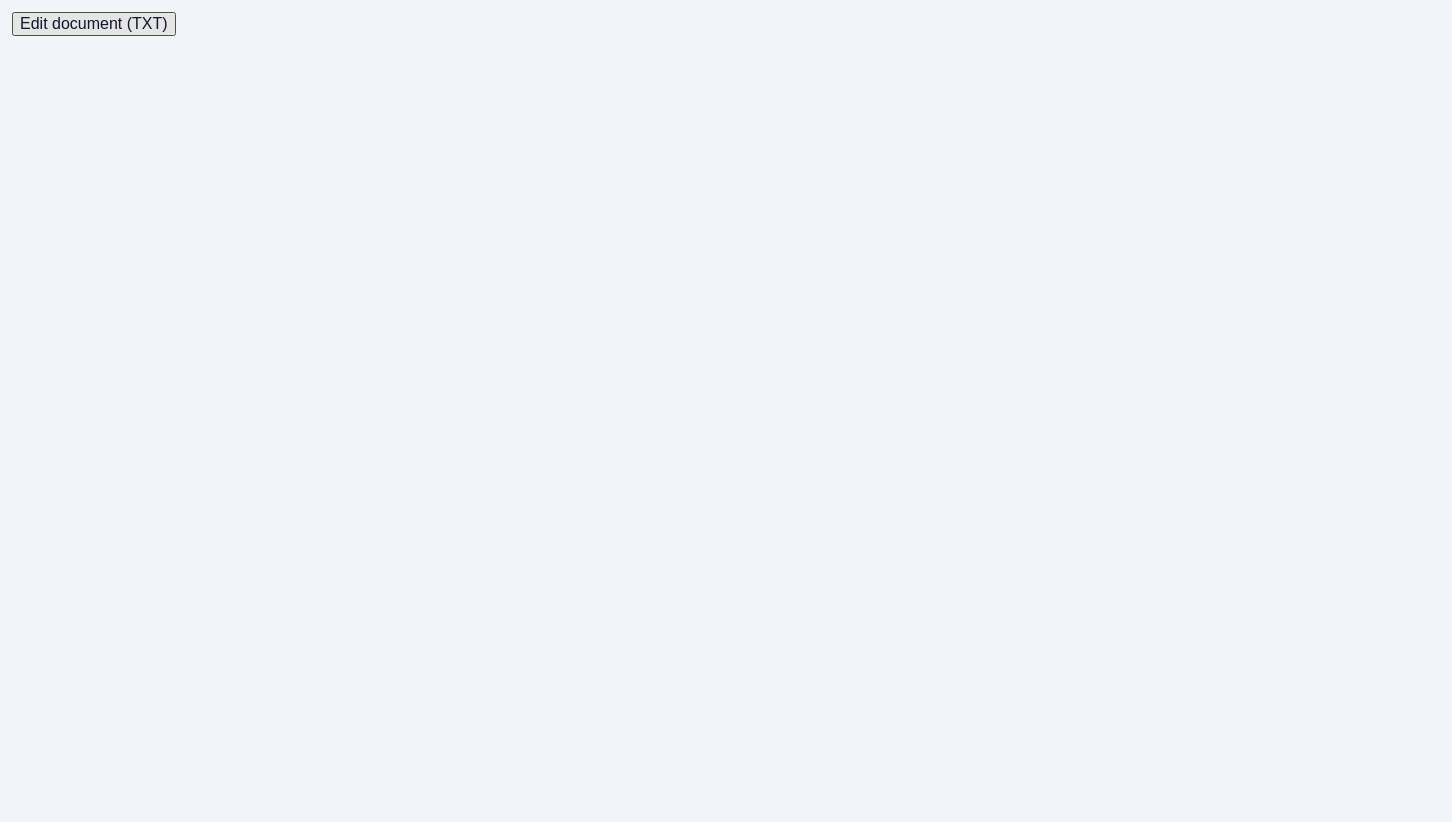
Test case: reopens a historical draft and keeps the current version as the save base
Click the button "Edit document (TXT)" at (94, 24), box 12,12 -> 176,36
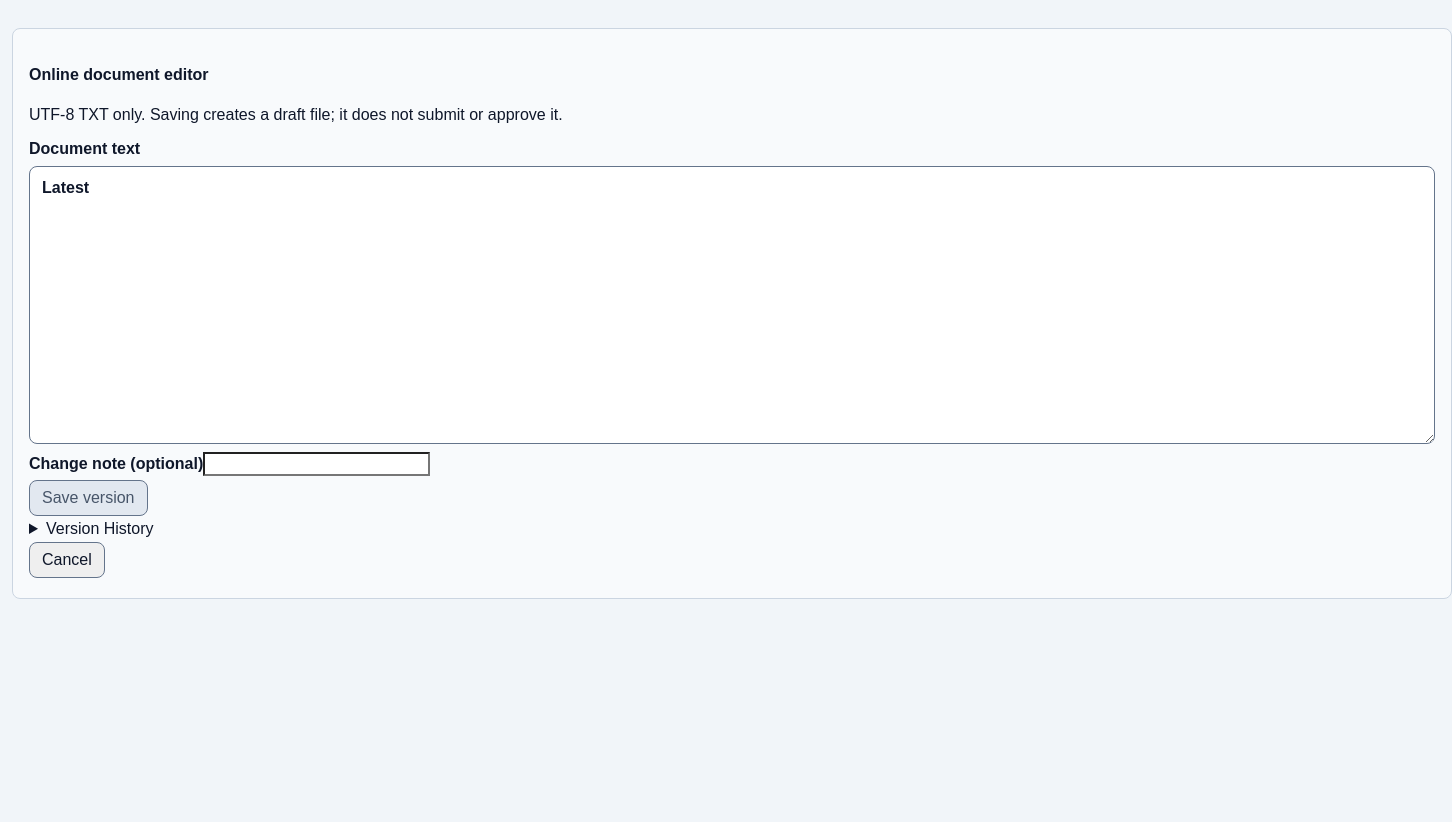
Expected: the text box labelled "Document text" is shown, 29,166 -> 1435,444
Click the heading "Version History" at (100, 528), box 46,520 -> 154,536
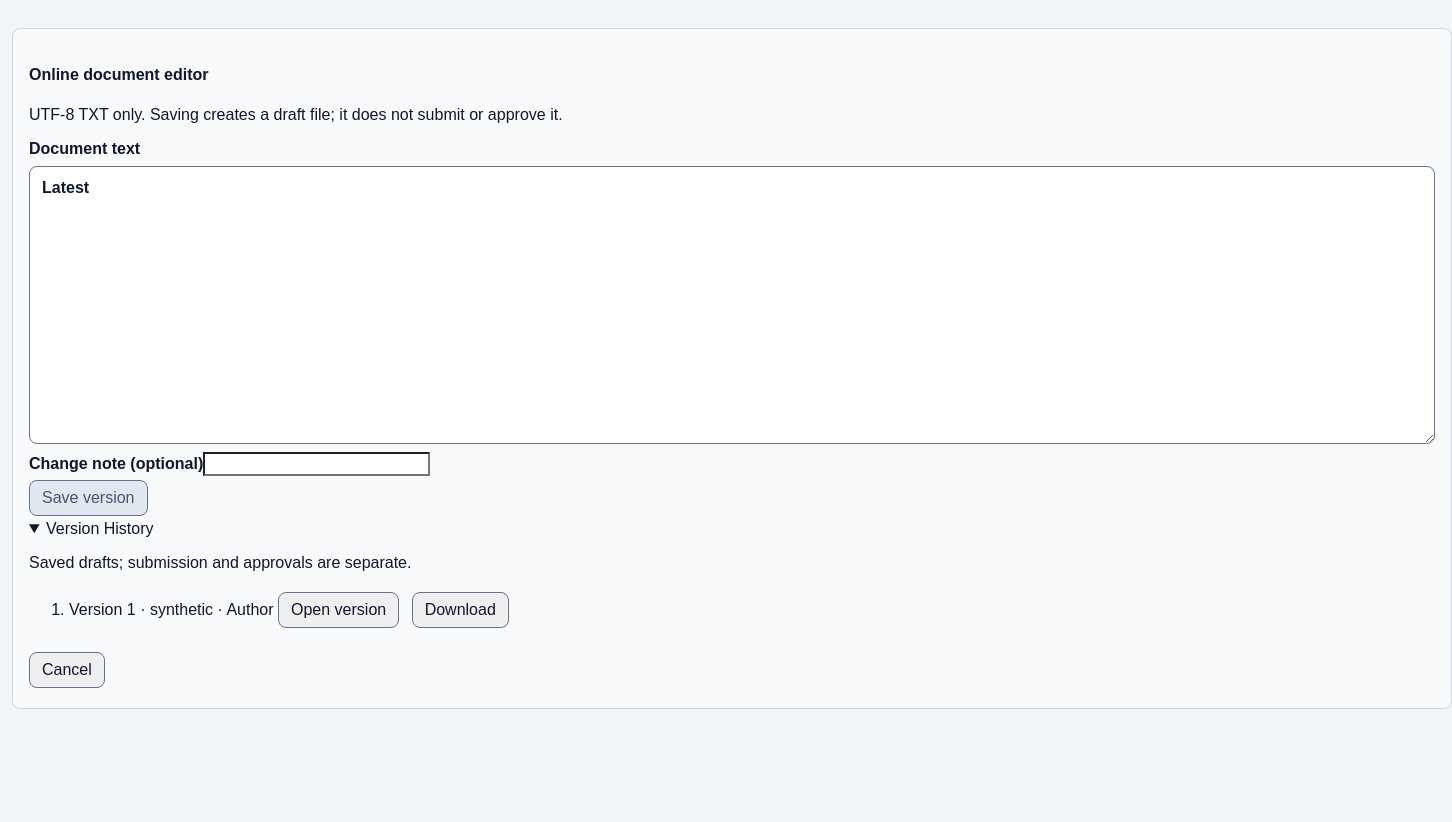
Click the button "Open version" at (339, 610), box 278,592 -> 399,628
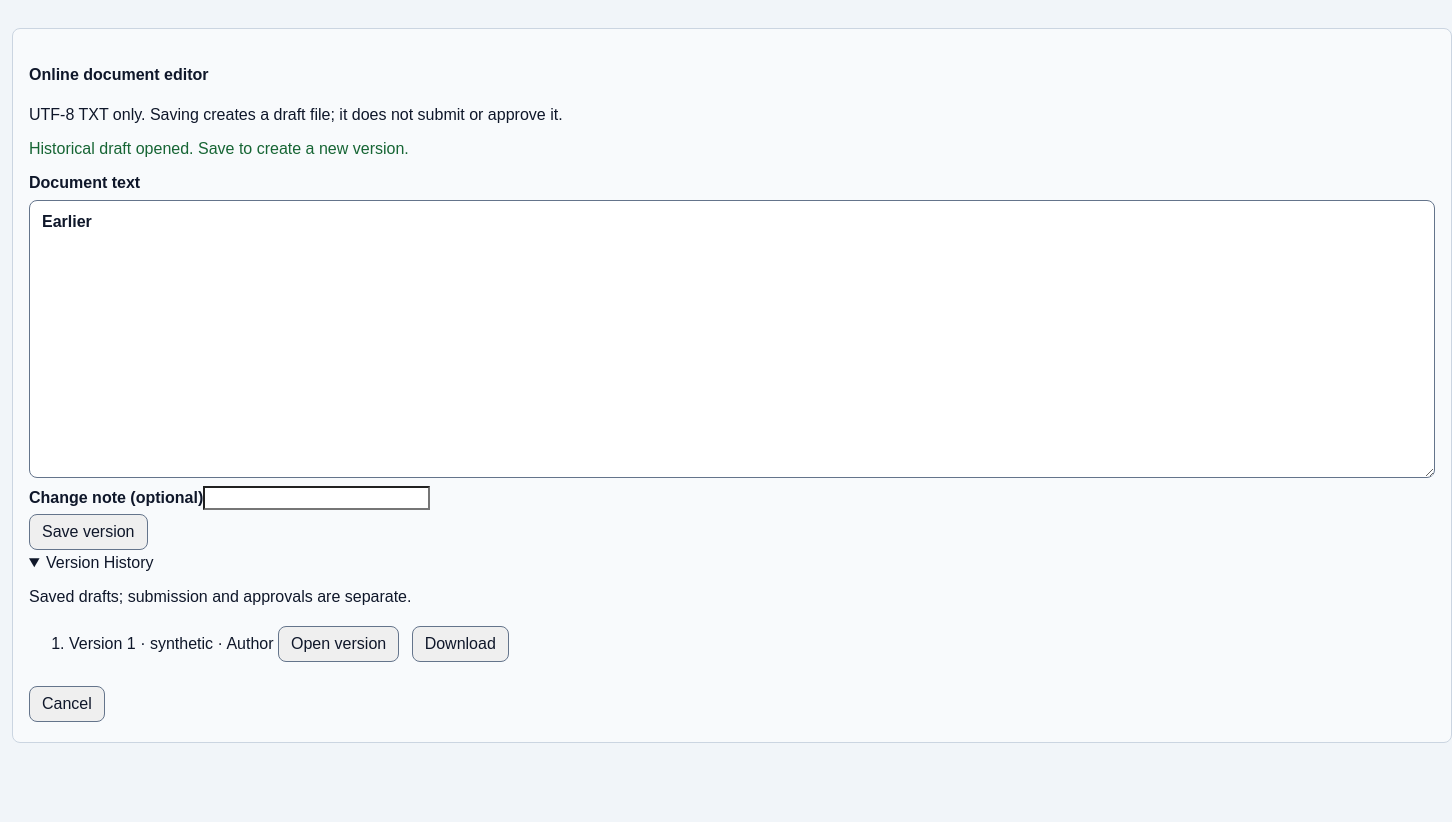
Expected: the text box labelled "Document text" holds "Earlier", 29,200 -> 1435,478
Expected: the button "Save version" is enabled, 29,514 -> 148,550
